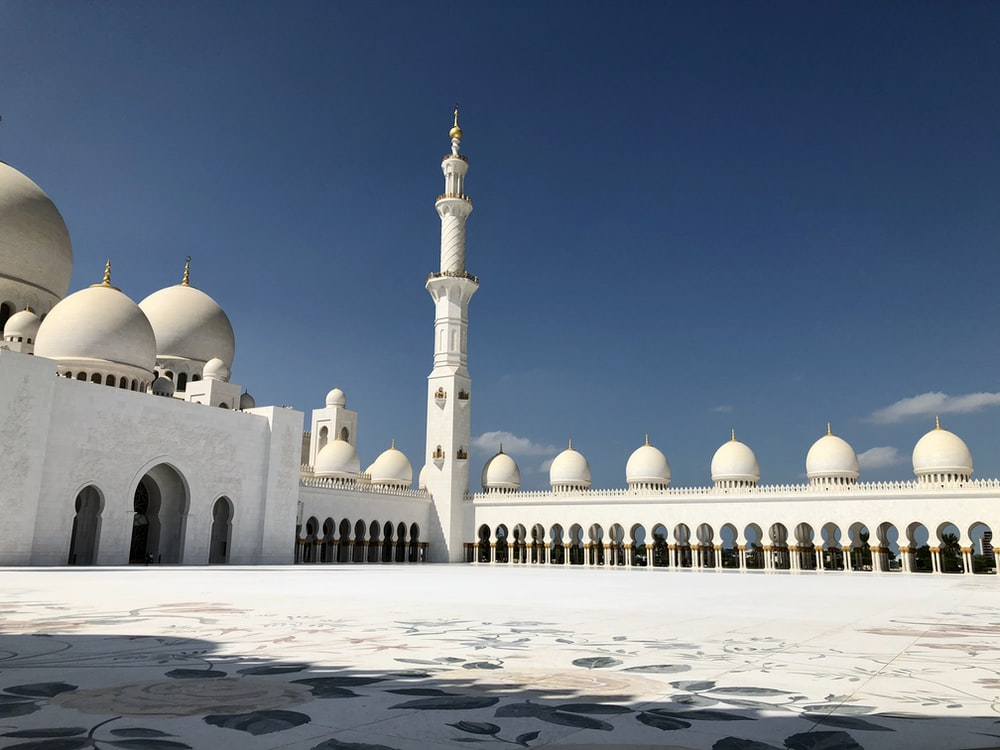Mosque: (15, 117, 980, 585)
